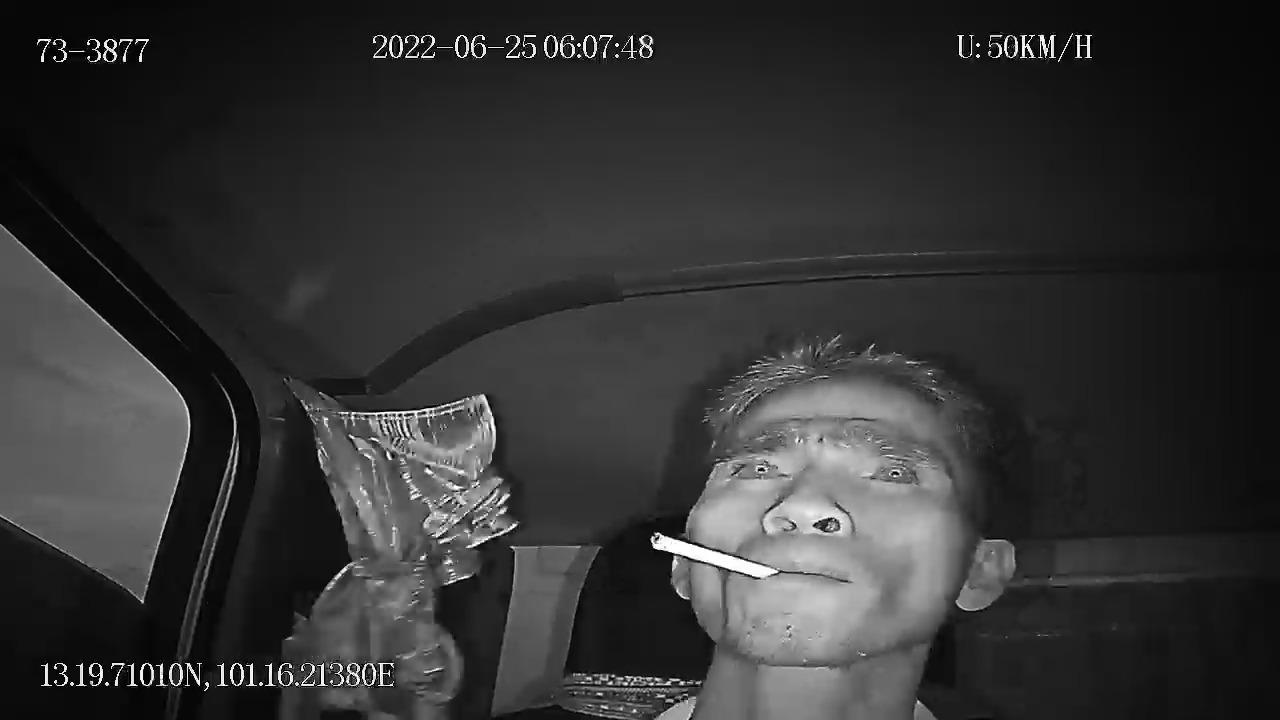Smoking: (621, 522, 798, 584)
